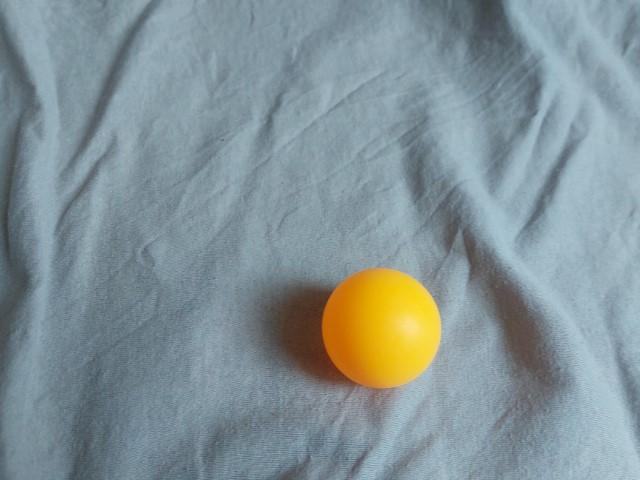oball: (309, 261, 451, 396)
